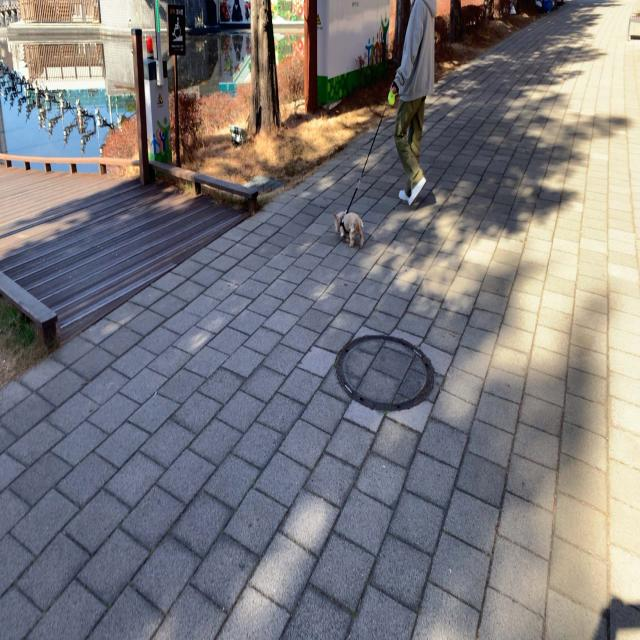Leashed_Dog: (334, 66, 414, 250)
